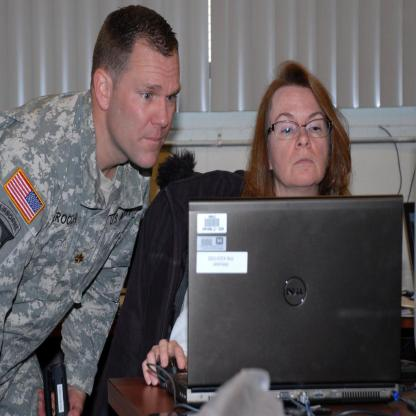board: (164, 206, 412, 407)
